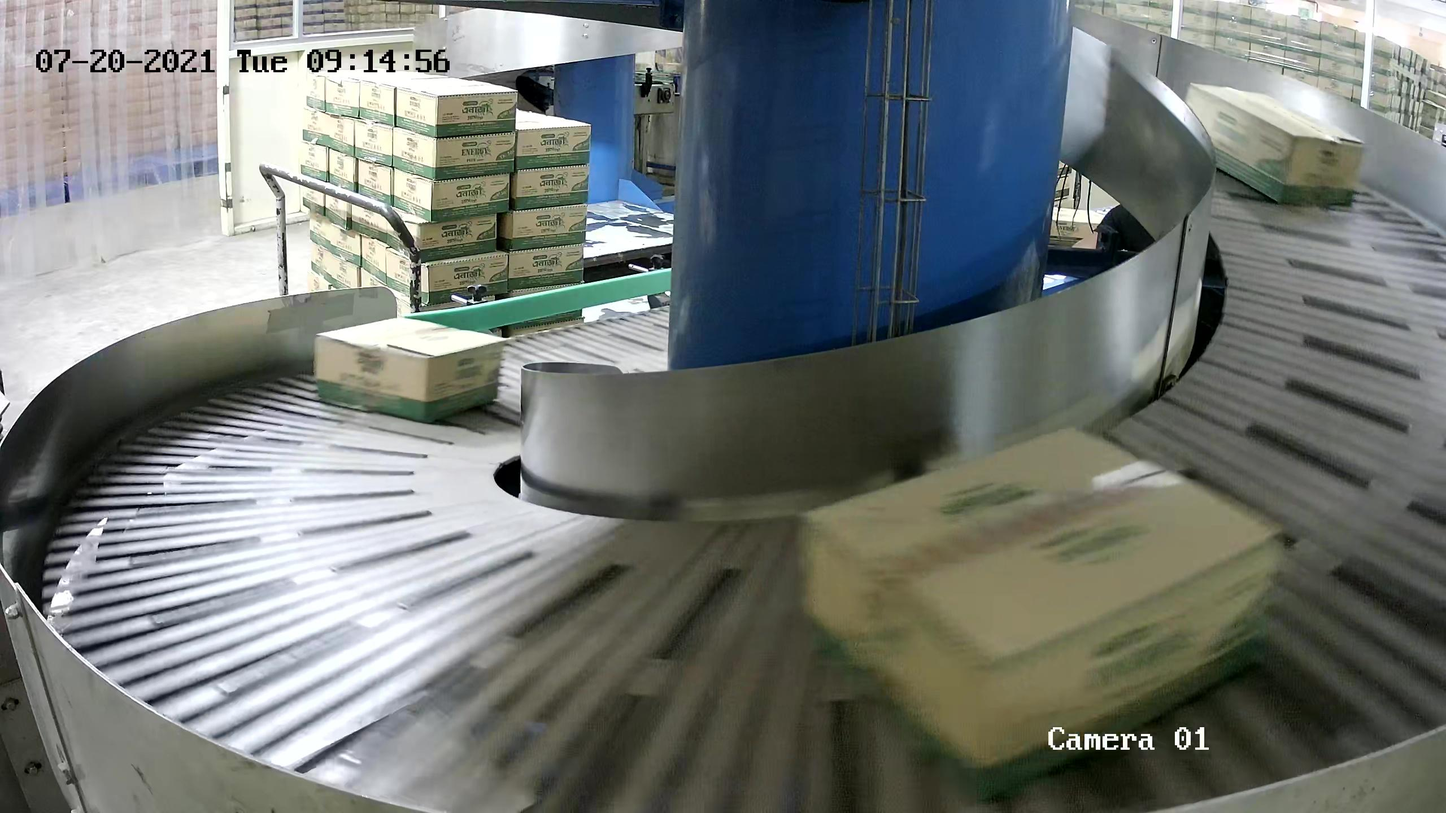Box: (791, 422, 1284, 801), (1183, 81, 1366, 209), (311, 317, 506, 423)
